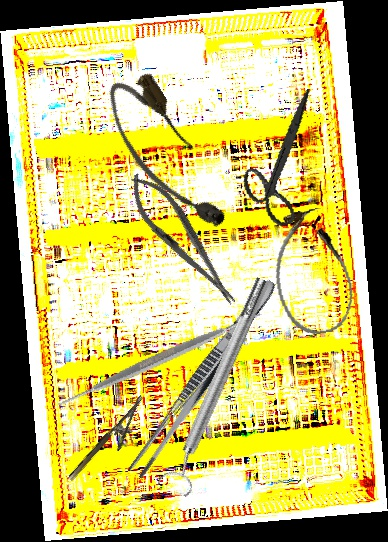Cannula: (95, 64, 237, 247), (264, 204, 360, 340)
Dressing Forceps: (126, 274, 281, 482)
Fixation Ring: (154, 272, 282, 499)
Iris Scissors: (224, 88, 342, 233)
Needle Holder: (117, 164, 248, 316), (66, 395, 157, 491)
Spatula Surgical: (45, 245, 275, 474)
